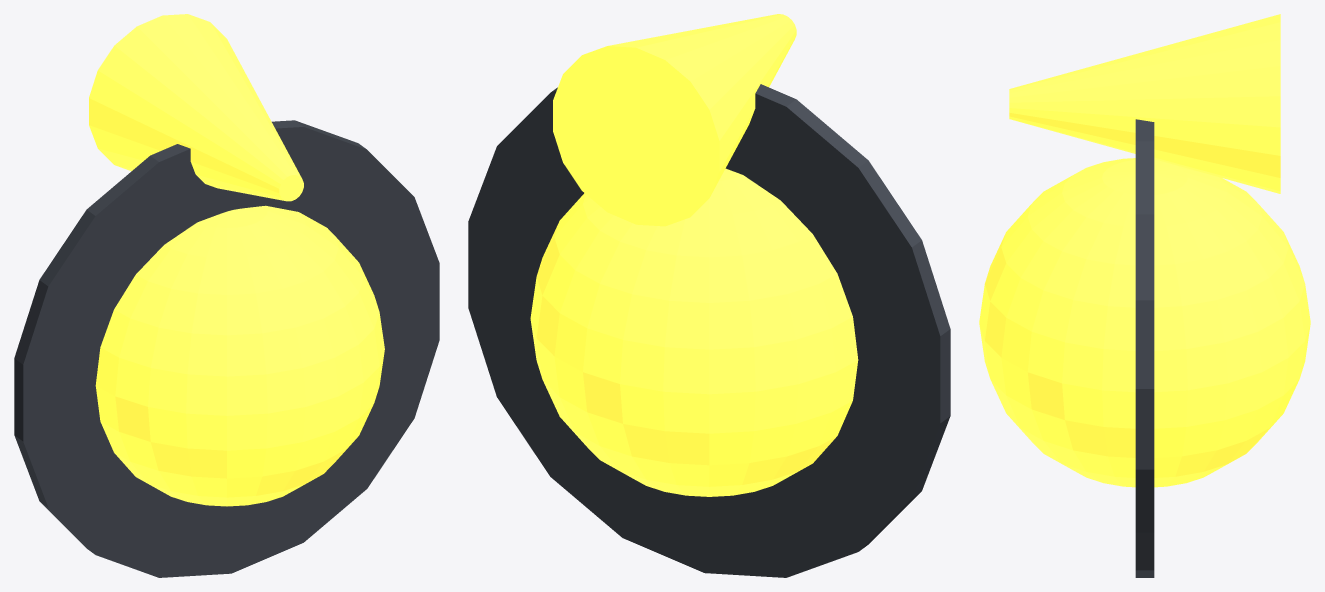
The model's file is drone_hunter.glb.
3 views of the same model, side by side, from view 1: azimuth 30°, elevation 25°; view 2: azimuth 150°, elevation 25°; view 3: azimuth 270°, elevation 25° (orthographic). The views are drawn at different scales.
Visible parts, largest first — view 1: ring, core, nose; view 2: ring, core, nose; view 3: core, nose, ring.
Boxes of the visible parts, <box> form: ring: <box>14,120,439,577</box>; core: <box>95,205,384,506</box>; nose: <box>89,14,303,201</box>; ring: <box>468,84,950,577</box>; core: <box>530,168,858,496</box>; nose: <box>553,14,796,226</box>; core: <box>979,158,1310,487</box>; nose: <box>1009,14,1280,193</box>; ring: <box>1135,119,1154,577</box>.
Bounding box in the file's own units: 0.6697 × 0.78 × 0.44.
